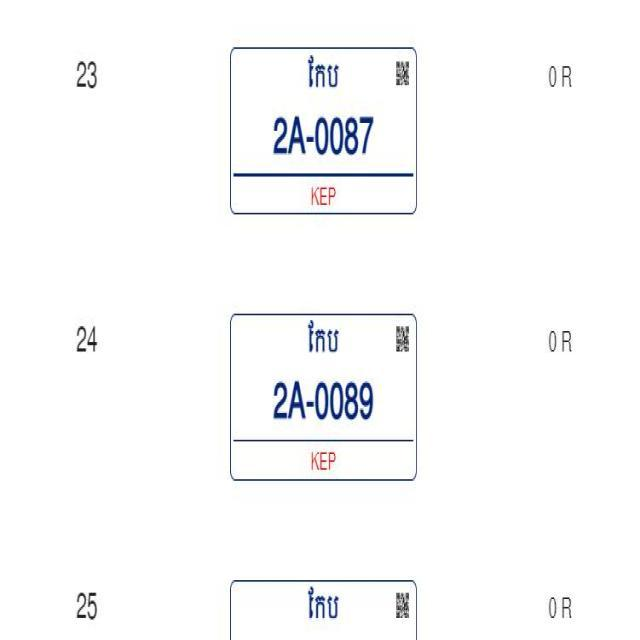Kep: (306, 320, 343, 362), (306, 51, 342, 94)
